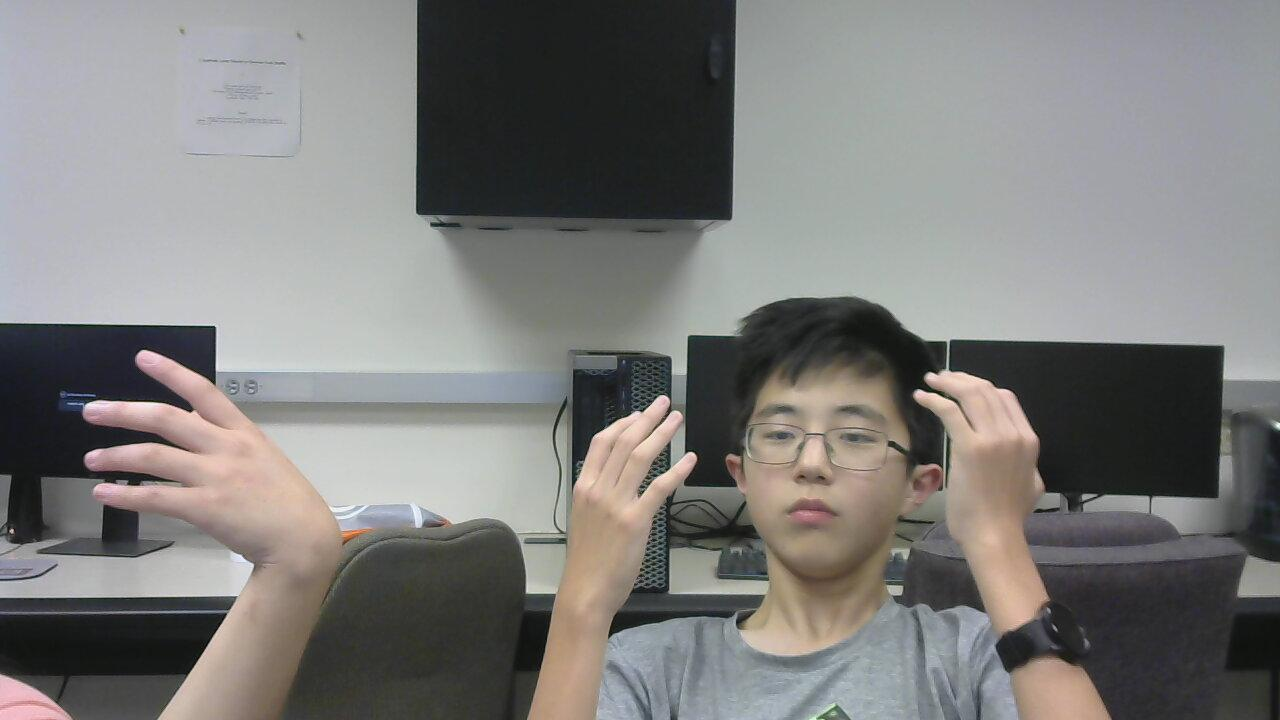hands: (76, 342, 354, 574), (903, 362, 1067, 548), (556, 383, 695, 602)
